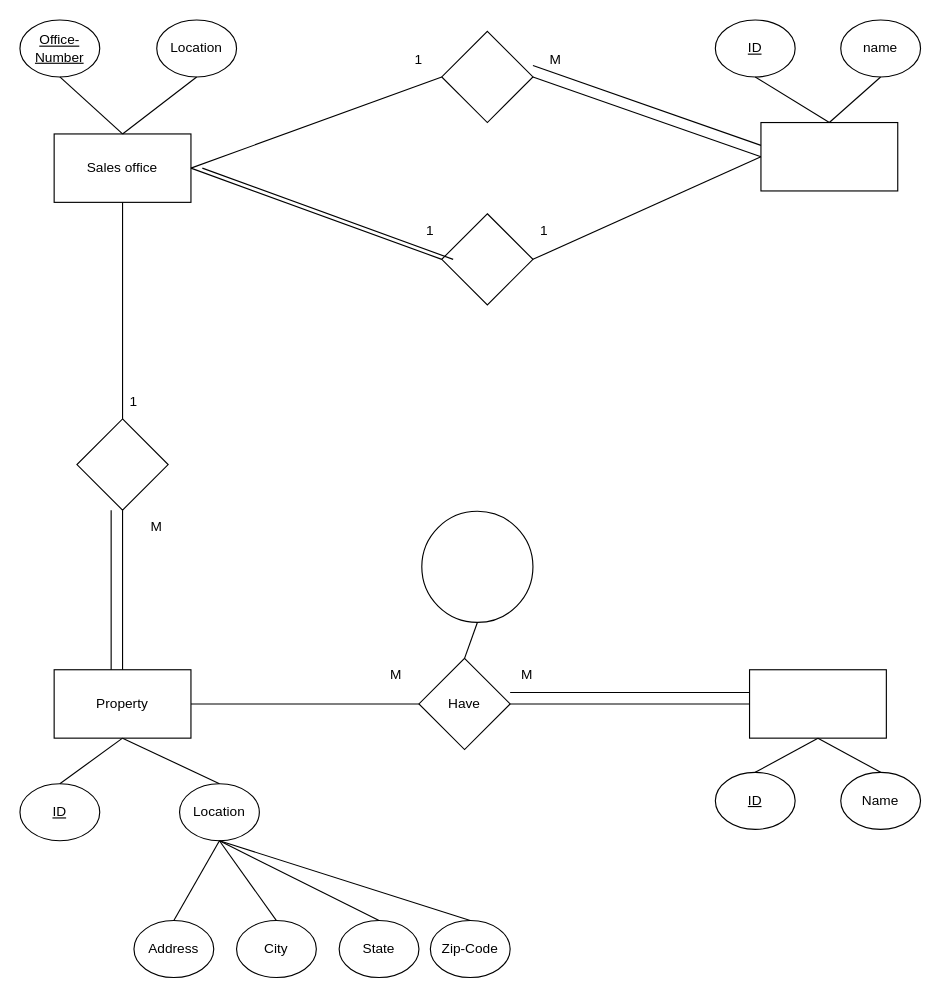
The diagram is 941 pixels wide and 998 high, and some of its shapes have lost their labels. Each missing label, with the box of its shape:
Assign: (441, 30, 533, 123)
Employee: (760, 121, 898, 191)
List: (76, 418, 168, 510)
Manage: (441, 213, 533, 305)
Owners: (748, 669, 886, 738)
Percent-Owned: (421, 510, 533, 622)
